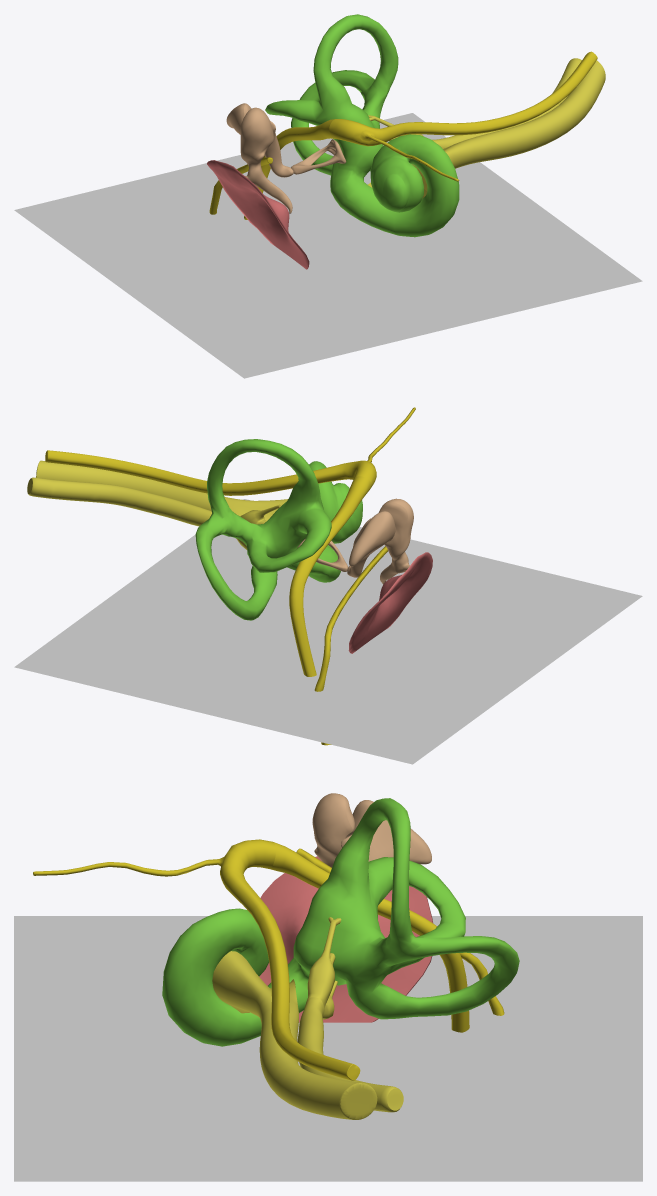
File: ear new 2 fbx.fbx
3 renders of one model, top to bottom at view 1: azimuth 30°, elevation 25°; view 2: azimuth 150°, elevation 25°; view 3: azimuth 270°, elevation 25°, orthographic. The views are drawn at different scales.
Visible parts, largest first — view 1: Object_8, Object_10, Object_5, Object_11, Object_6, Object_7, Object_4, Object_9, Object_3; view 2: Object_8, Object_10, Object_5, Object_9, Object_11, Object_6, Object_7, Object_4; view 3: Object_8, Object_10, Object_5, Object_11, Object_6, Object_9, Object_7, Object_4.
Boxes of the visible parts, x1,y1,x2,y2 form: Object_8: (14,113,642,378); Object_10: (265,14,459,237); Object_5: (209,51,597,219); Object_11: (368,60,605,198); Object_6: (207,160,309,269); Object_7: (240,107,292,213); Object_4: (226,103,293,177); Object_9: (368,58,581,148); Object_3: (291,139,346,174); Object_8: (14,499,642,764); Object_10: (195,439,362,620); Object_5: (46,407,415,745); Object_9: (27,477,281,549); Object_11: (36,460,287,520); Object_6: (348,552,432,653); Object_7: (378,498,413,584); Object_4: (347,511,395,577); Object_8: (14,916,642,1181); Object_10: (162,798,519,1046); Object_5: (33,839,504,1080); Object_11: (212,951,377,1119); Object_6: (259,856,432,1022); Object_9: (297,917,403,1112); Object_7: (312,793,354,867); Object_4: (341,800,431,864).
Size of the model in its own units: 1752 by 925 by 1452.
